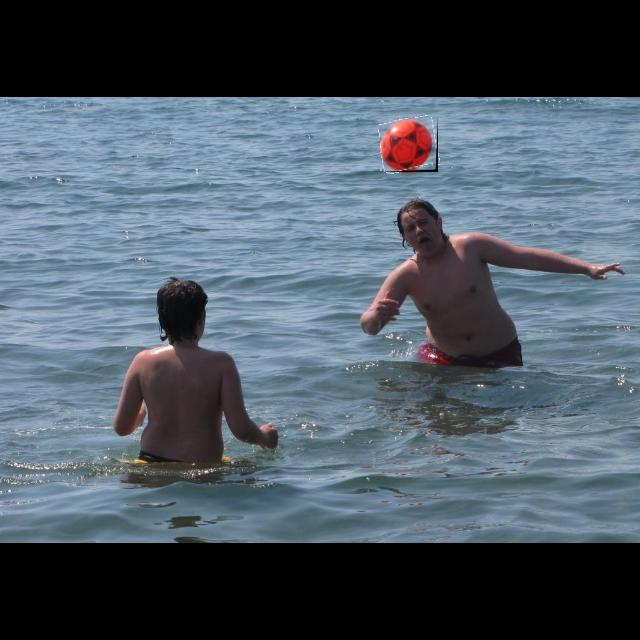Football: (380, 118, 438, 172)
